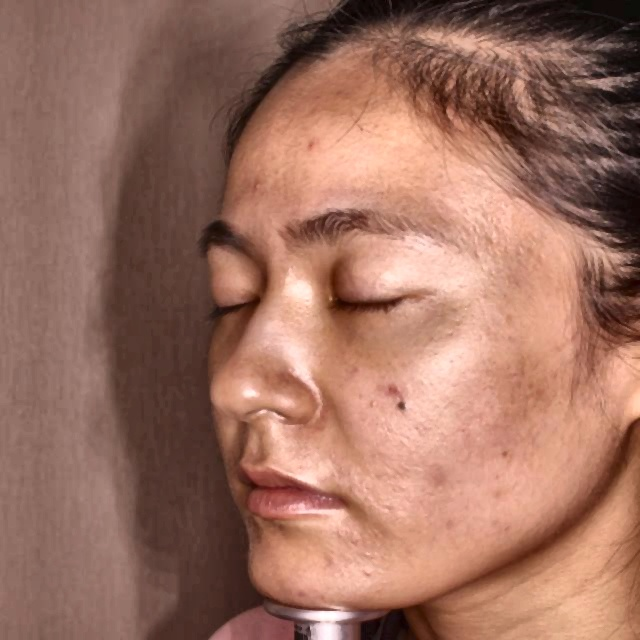comedone: (298, 140, 325, 151)
